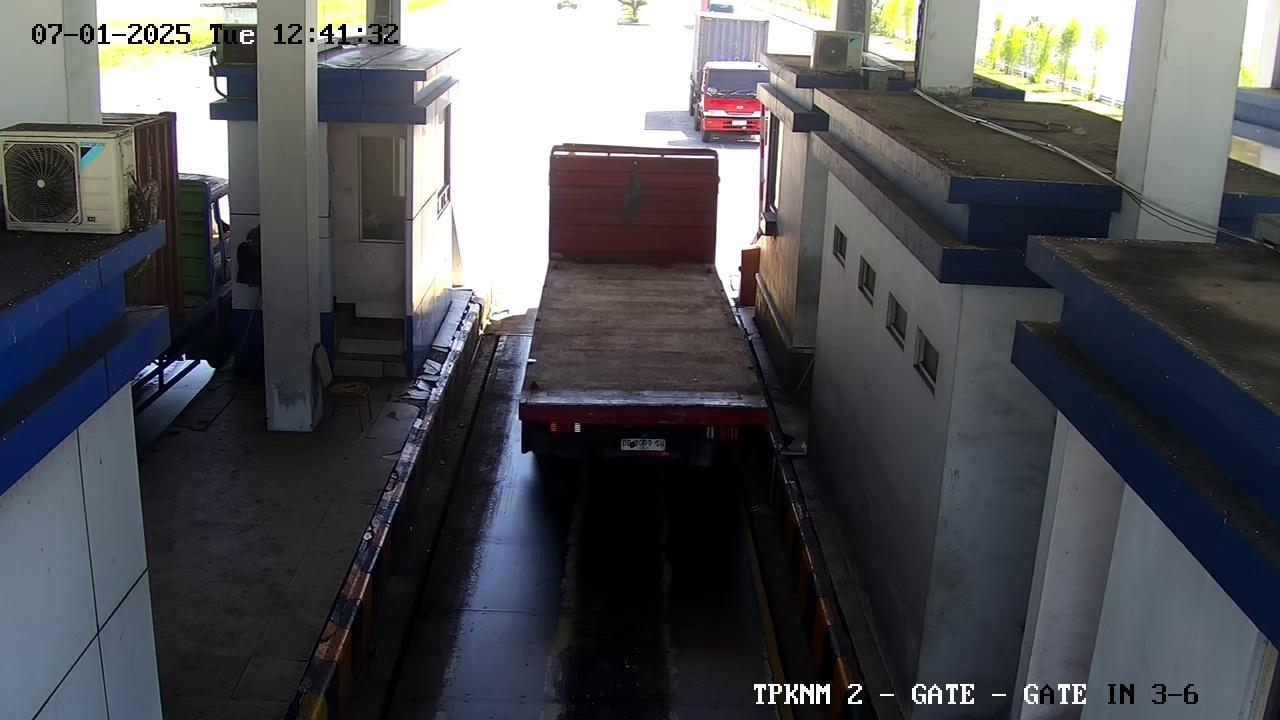plate_number: (610, 431, 672, 459)
